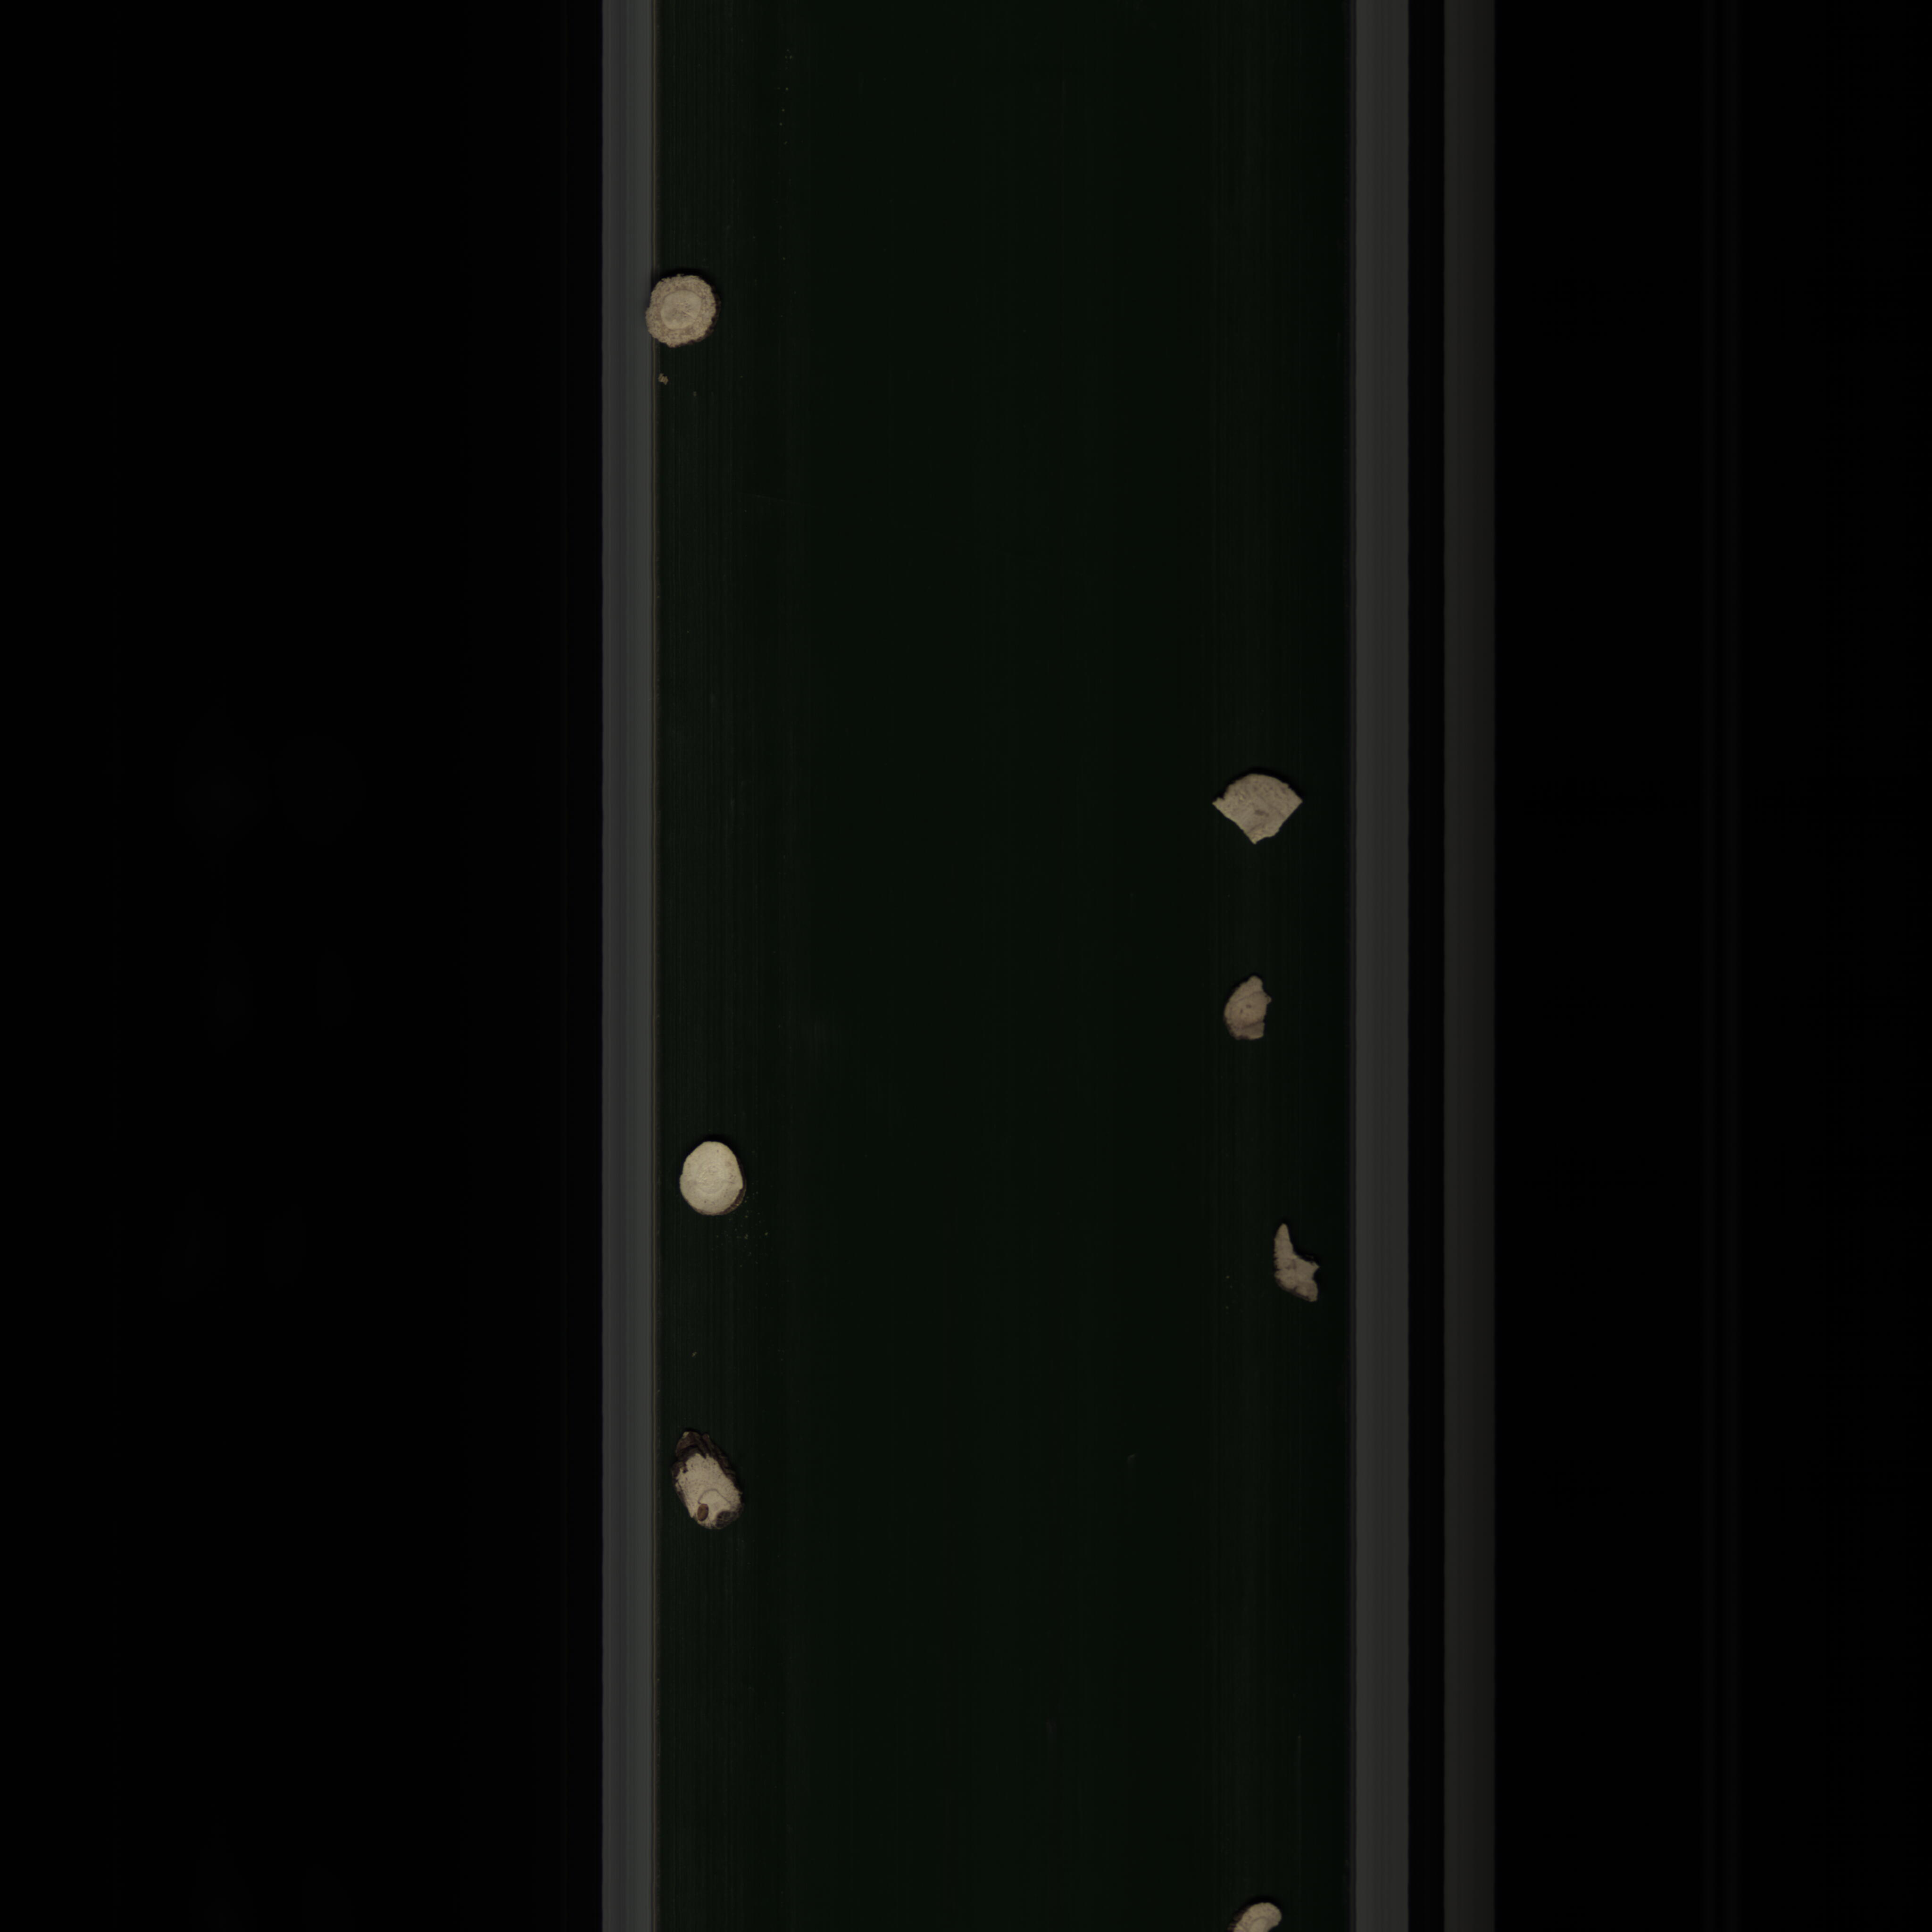bark: (665, 1415, 757, 1543)
debris: (1212, 764, 1320, 870), (1210, 968, 1300, 1062), (1263, 1210, 1341, 1318)
